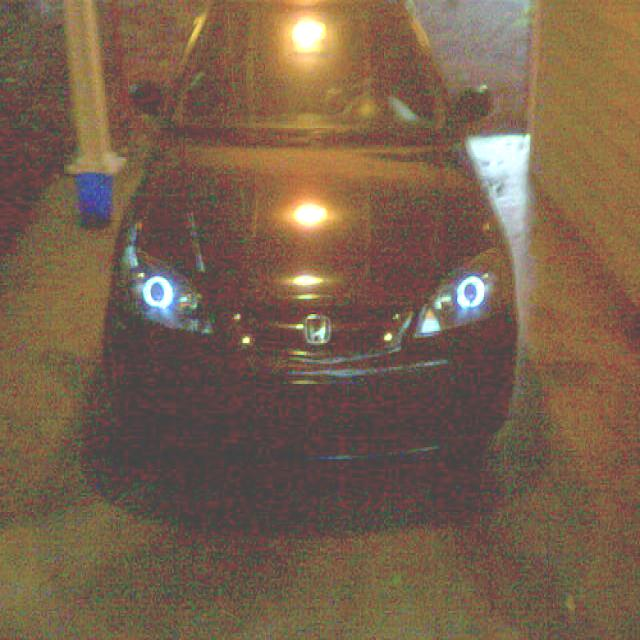Car: (120, 4, 520, 487)
